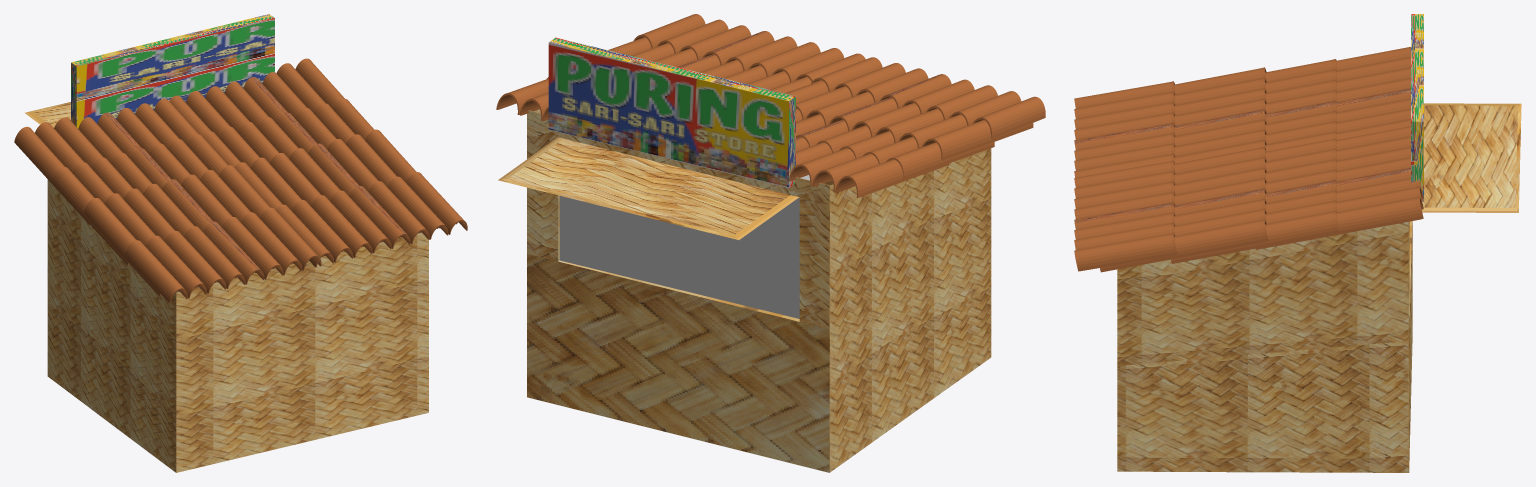
Rendered from StoreModel.fbx.
The picture shows the model from 3 angles, left to right: view 1: azimuth 30°, elevation 25°; view 2: azimuth 150°, elevation 25°; view 3: azimuth 270°, elevation 25°; orthographic projection. The views are drawn at different scales.
Visible parts, largest first — view 1: Cube, Cube.002, Circle.008, Circle.009, Circle.003, Circle.001, Circle.005, Circle.006, Circle.002, Circle.004; view 2: Cube, Cube.002, Cube.001, Circle.008, Circle.003, Circle.009, Circle.002, Circle.005, Circle.001, Circle.006; view 3: Cube, Circle.009, Circle.001, Circle.008, Circle.006, Circle.003, Circle.004, Circle.005, Circle.002, Cube.002.
Boxes of the visible parts, box(x1,y1,x2,y2) form: Cube: box(25, 102, 428, 472); Cube.002: box(71, 14, 274, 128); Circle.008: box(125, 207, 321, 303); Circle.009: box(275, 172, 467, 267); Circle.003: box(84, 165, 293, 296); Circle.001: box(234, 129, 457, 256); Circle.005: box(14, 98, 198, 225); Circle.006: box(169, 58, 344, 136); Circle.002: box(52, 134, 228, 265); Circle.004: box(203, 98, 374, 167); Cube: box(498, 109, 991, 472); Cube.002: box(548, 37, 795, 188); Cube.001: box(559, 175, 824, 318); Circle.008: box(811, 57, 1045, 138); Circle.003: box(785, 80, 1033, 160); Circle.009: box(633, 14, 865, 83); Circle.002: box(796, 108, 994, 179); Circle.005: box(789, 137, 948, 197); Circle.001: box(608, 37, 811, 93); Circle.006: box(496, 78, 548, 121); Cube: box(1117, 103, 1521, 472); Circle.009: box(1074, 160, 1177, 271); Circle.001: box(1100, 147, 1268, 272); Circle.008: box(1074, 81, 1175, 177); Circle.006: box(1255, 126, 1423, 249); Circle.003: box(1174, 67, 1266, 163); Circle.004: box(1171, 138, 1339, 263); Circle.005: box(1336, 47, 1410, 139); Circle.002: box(1265, 59, 1337, 151); Cube.002: box(1411, 14, 1423, 201).
Bounding box in the file's own units: 870 × 845 × 1014.
